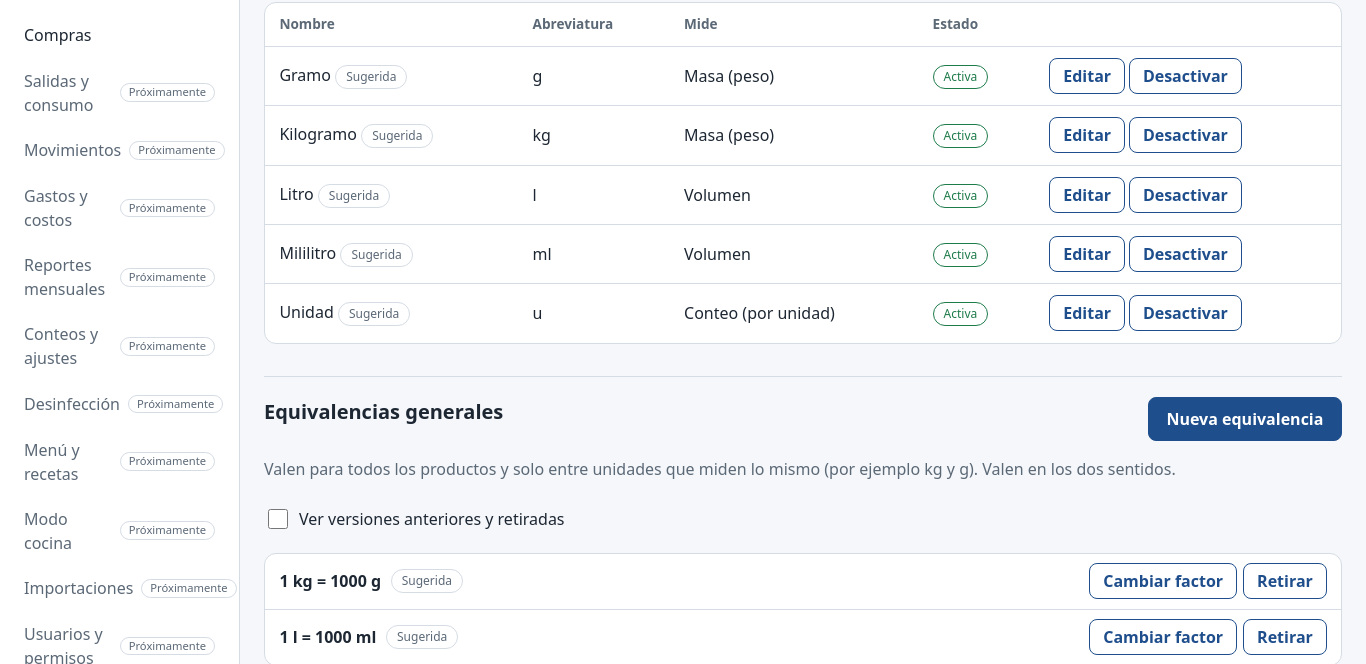
Scenario: equivalencias generales en /unidades › rechaza una equivalencia general entre masa y volumen con un mensaje claro
(page scrolled)
Click the button "Nueva equivalencia" at {"x": 1245, "y": 419}, box left=1148, top=397, right=1342, bottom=441
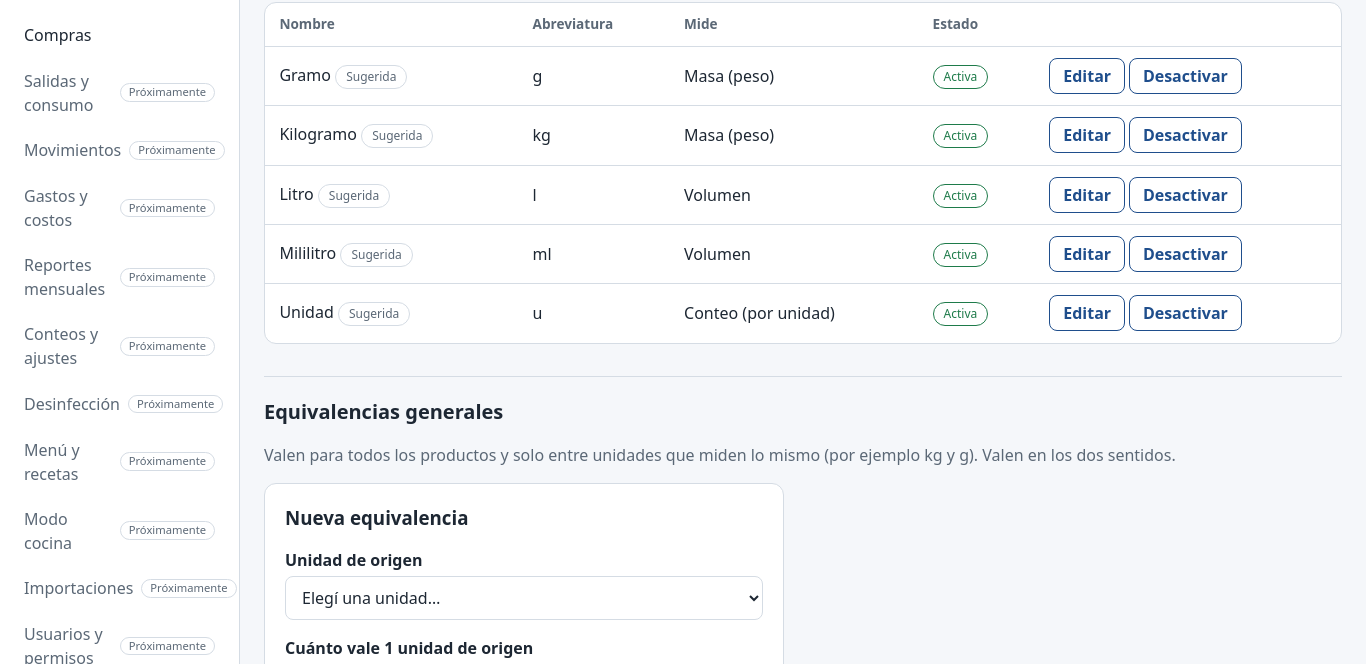
Select "Litro (l)" in the dropdown labelled "Unidad de origen" at {"x": 524, "y": 598}, box left=285, top=576, right=763, bottom=620
(page scrolled)
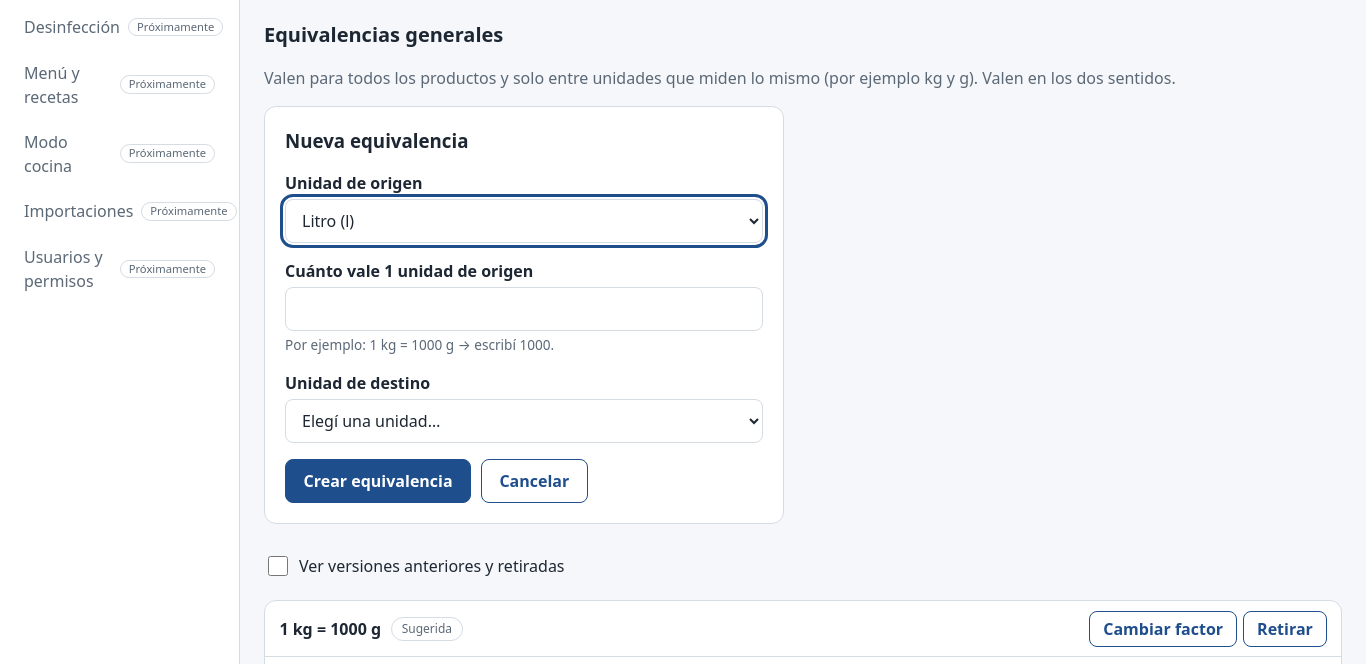
Type "0,92" into the field labelled "Cuánto vale 1 unidad de origen" at {"x": 524, "y": 309}, box left=285, top=287, right=763, bottom=331
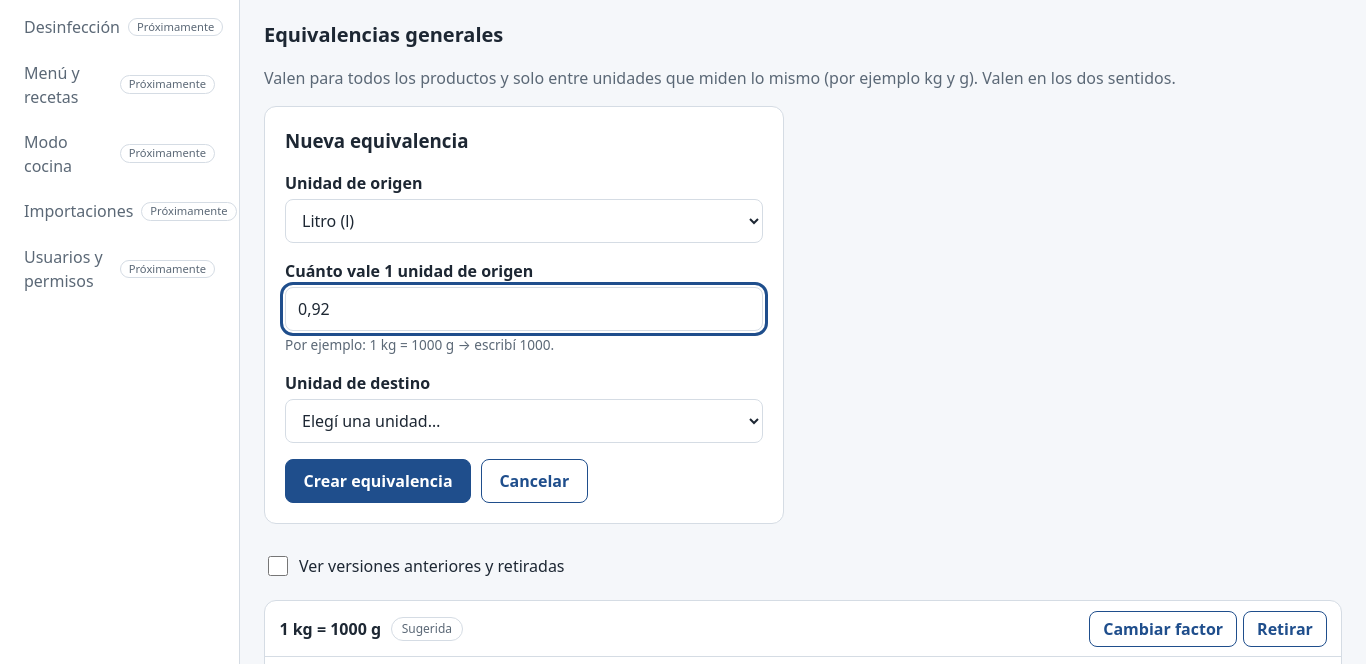
Select "Kilogramo (kg)" in the dropdown labelled "Unidad de destino" at {"x": 524, "y": 421}, box left=285, top=399, right=763, bottom=443
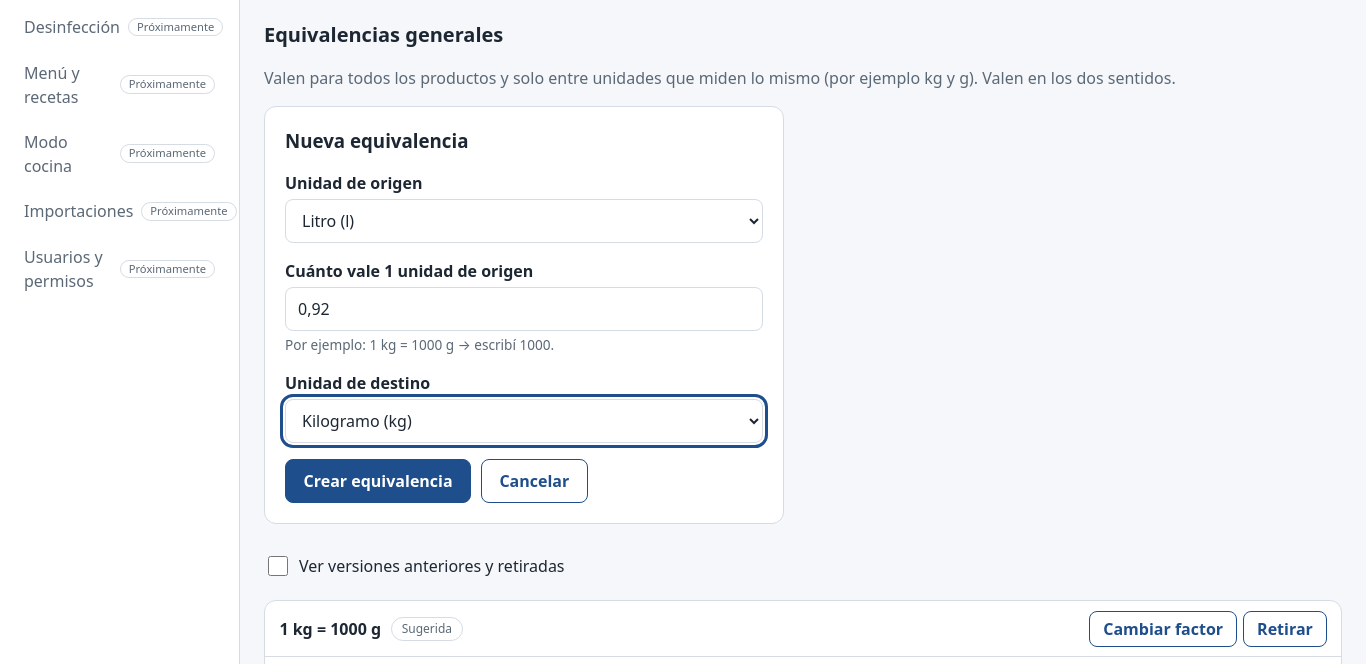
Click the button "Crear equivalencia" at {"x": 378, "y": 481}, box left=285, top=459, right=471, bottom=503
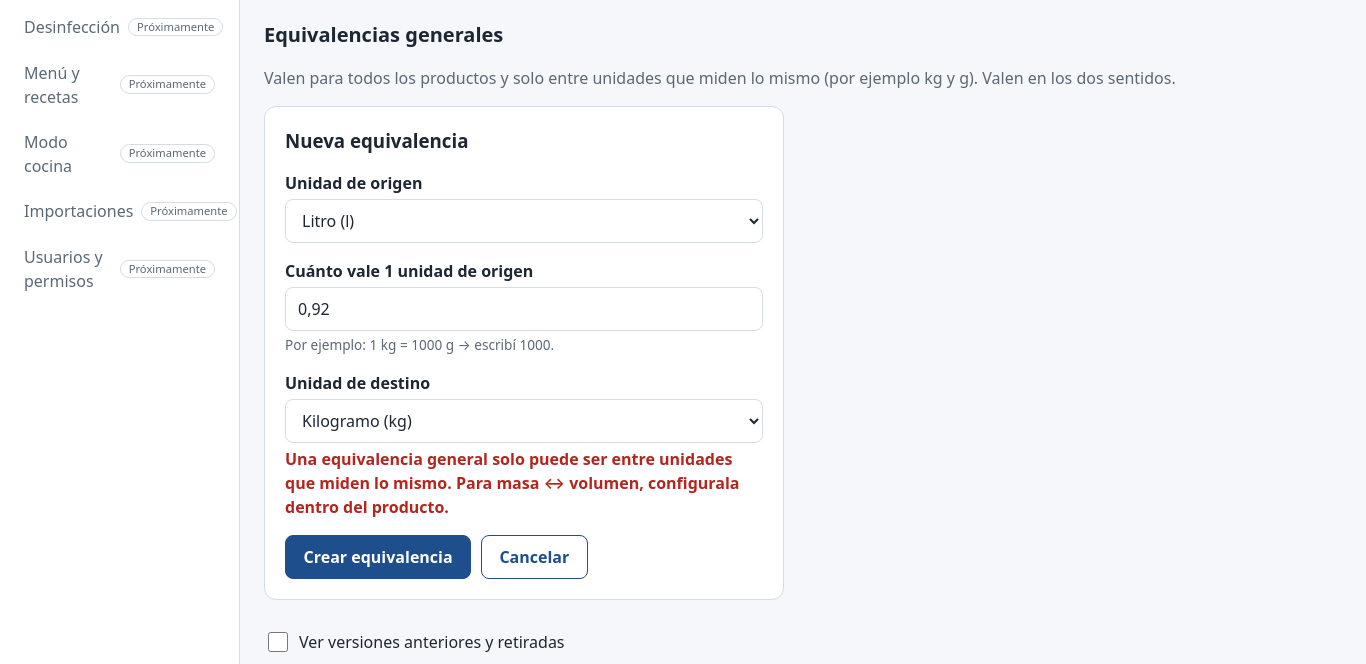
Now the text "solo puede ser entre unidades que miden lo mismo" is shown, box left=285, top=448, right=740, bottom=518
